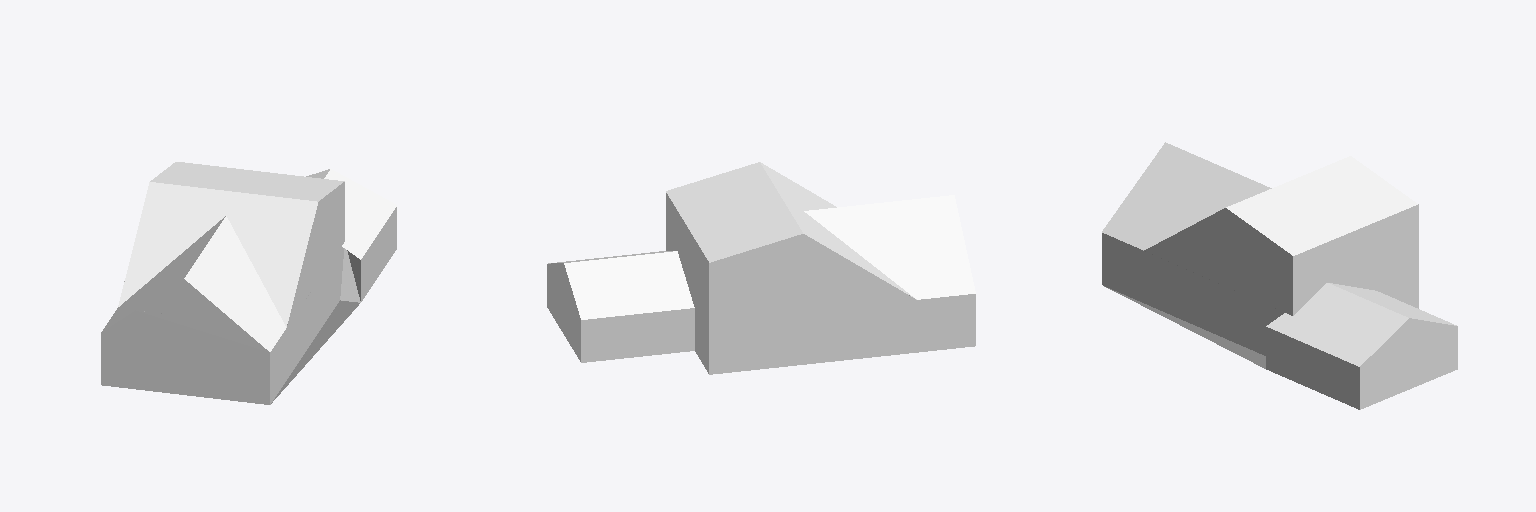
Rendered from house_Shape 242.obj.
3 views of the same model, side by side, from view 1: azimuth 30°, elevation 25°; view 2: azimuth 150°, elevation 25°; view 3: azimuth 270°, elevation 25° (orthographic).
Visible parts, largest first — view 1: CityEngineMaterial, CityEngineMaterial_91, CityEngineMaterial_144, CityEngineMaterial_143, CityEngineMaterial_92, CityEngineMaterial_90; view 2: CityEngineMaterial, CityEngineMaterial_92, CityEngineMaterial_91, CityEngineMaterial_143; view 3: CityEngineMaterial, CityEngineMaterial_91, CityEngineMaterial_143, CityEngineMaterial_92, CityEngineMaterial_90.
Part boxes in pixels (bbox=[...]): CityEngineMaterial: bbox=[101, 162, 396, 351]; CityEngineMaterial_91: bbox=[101, 215, 360, 404]; CityEngineMaterial_144: bbox=[136, 279, 233, 321]; CityEngineMaterial_143: bbox=[298, 182, 344, 283]; CityEngineMaterial_92: bbox=[124, 207, 396, 311]; CityEngineMaterial_90: bbox=[161, 300, 359, 403]; CityEngineMaterial: bbox=[548, 162, 975, 319]; CityEngineMaterial_92: bbox=[709, 278, 975, 374]; CityEngineMaterial_91: bbox=[547, 226, 708, 373]; CityEngineMaterial_143: bbox=[666, 193, 878, 295]; CityEngineMaterial: bbox=[1102, 142, 1456, 366]; CityEngineMaterial_91: bbox=[1102, 233, 1457, 409]; CityEngineMaterial_143: bbox=[1172, 204, 1418, 288]; CityEngineMaterial_92: bbox=[1266, 327, 1359, 409]; CityEngineMaterial_90: bbox=[1104, 286, 1265, 368].
Size of the model in its own units: 21.63 by 7.48 by 18.44.